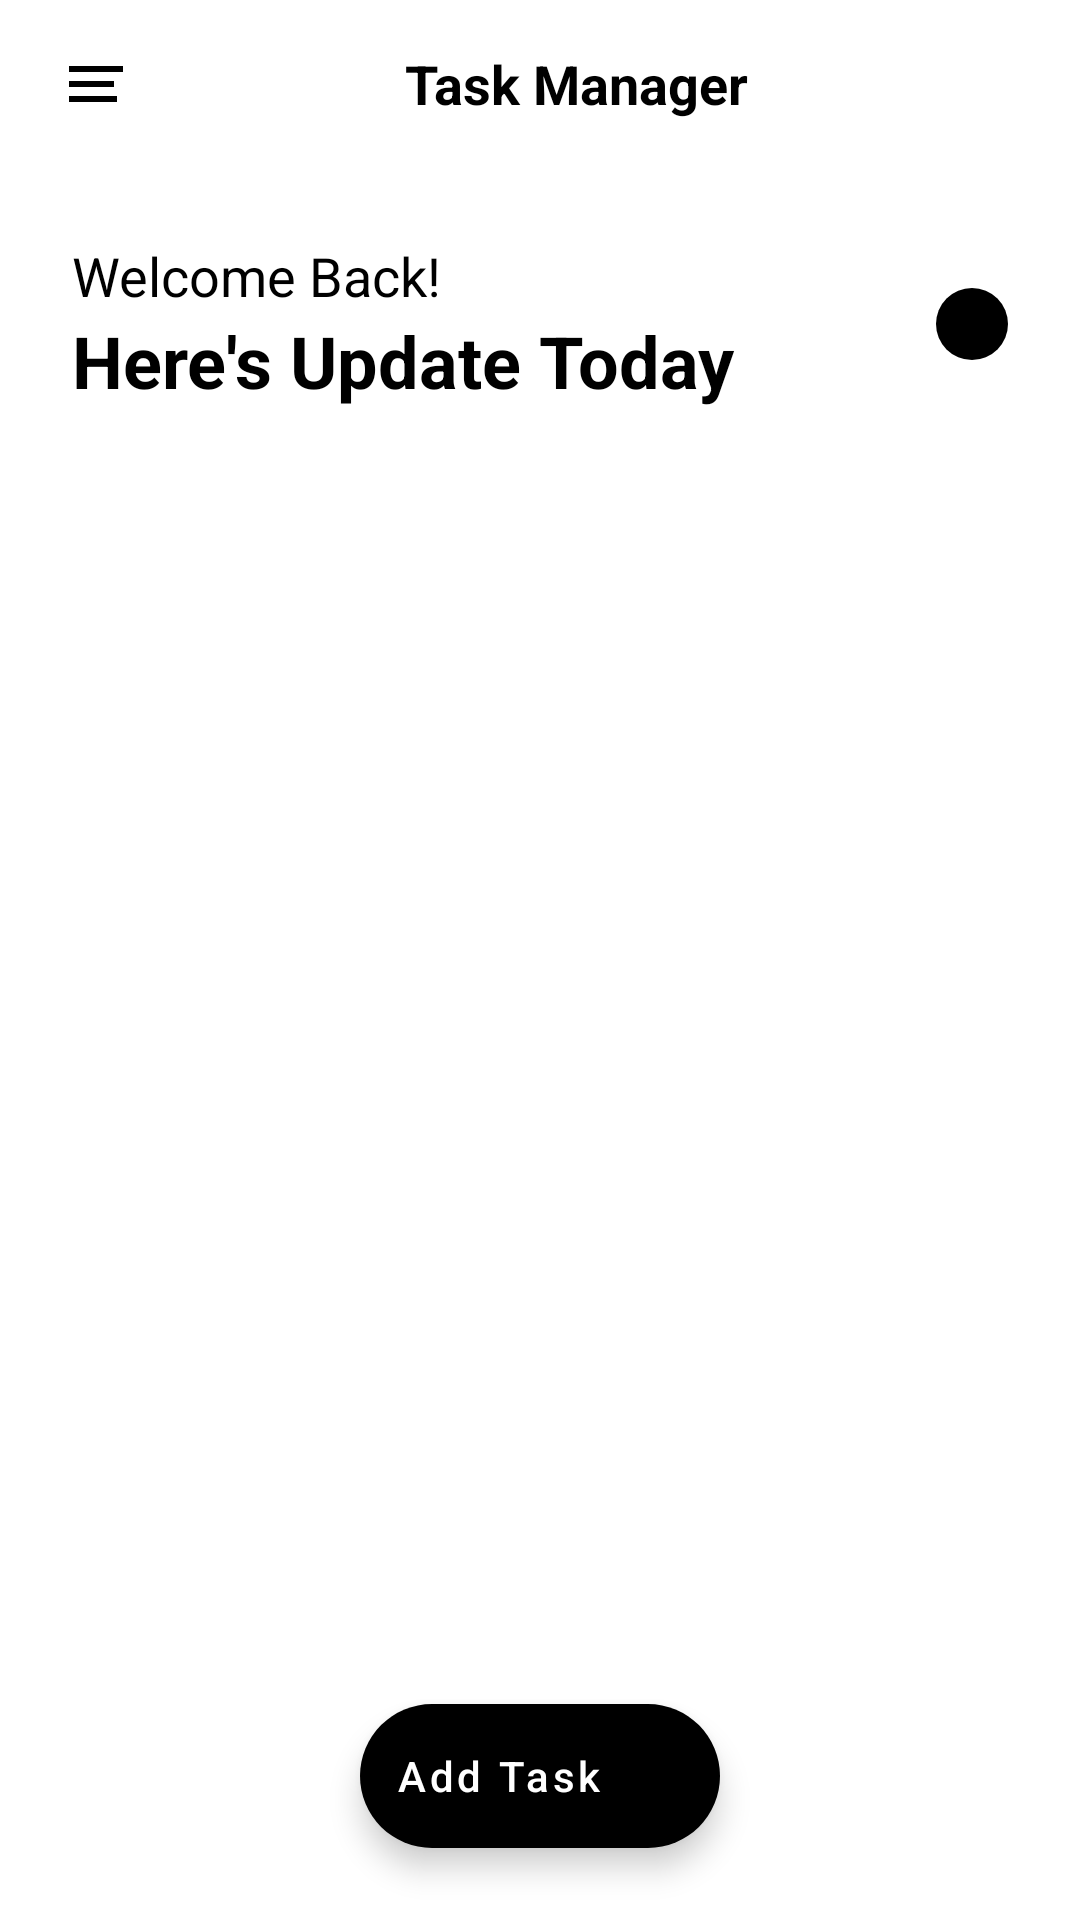

Named icons in this screenshot (1080 × 1920) and their centers, (x,y):
Menu: (96,84)
